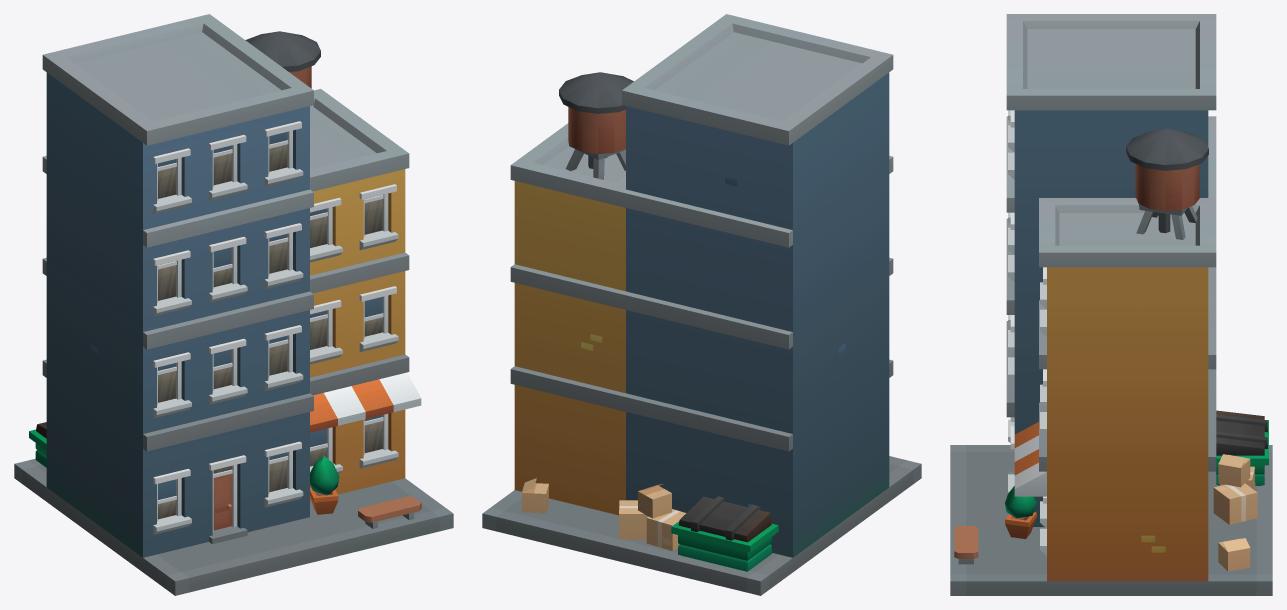
Rendered from kkcity.building_h.glb.
3 views of the same model, side by side, from view 1: azimuth 30°, elevation 25°; view 2: azimuth 150°, elevation 25°; view 3: azimuth 270°, elevation 25° (orthographic).
Visible parts, largest first — view 1: building_H; view 2: building_H; view 3: building_H.
Part boxes in pixels (x1,y1,x2,y2): building_H: (14, 14, 453, 595); building_H: (482, 14, 921, 595); building_H: (950, 14, 1272, 595).
Size of the model in its own units: 9.63 by 14.63 by 9.59.
1 material, 1 textured.
